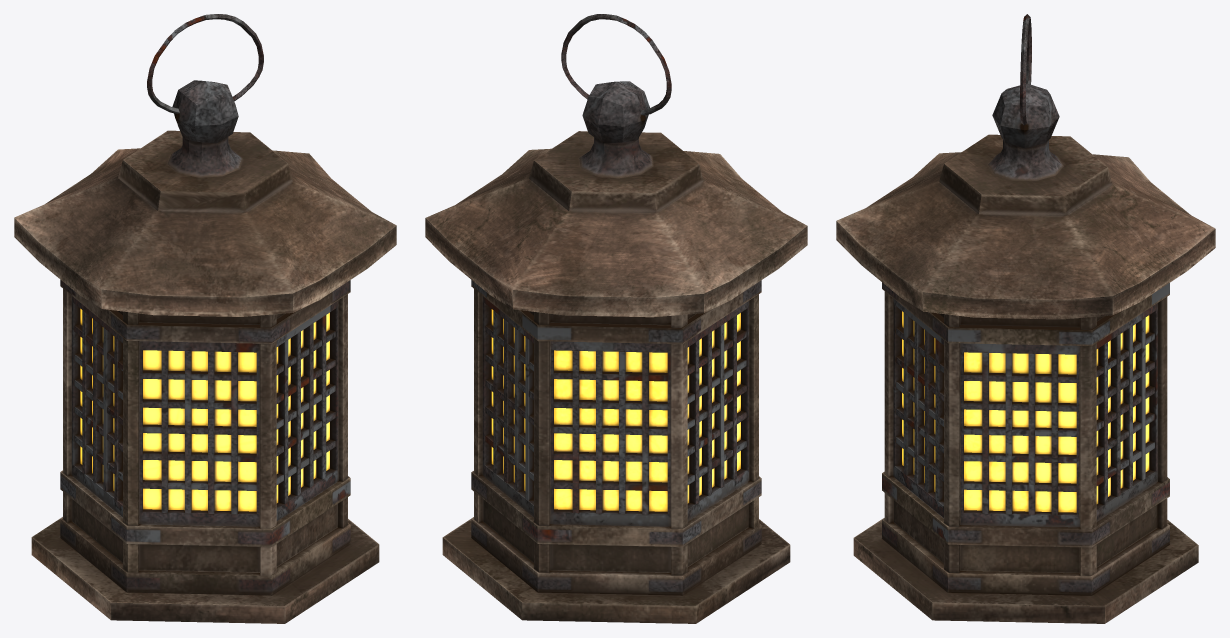
The model's file is Lamp.fbx.
The picture shows the model from 3 angles, left to right: view 1: azimuth 30°, elevation 25°; view 2: azimuth 150°, elevation 25°; view 3: azimuth 270°, elevation 25°; orthographic projection.
Visible parts, largest first — view 1: Object_9; view 2: Object_9; view 3: Object_9.
Part boxes in pixels (<box>): Object_9: <box>14,14,396,623</box>; Object_9: <box>425,14,807,623</box>; Object_9: <box>836,14,1215,623</box>.
Bounding box in the file's own units: 29.83 × 52.52 × 33.5.
1 material, 1 textured.
